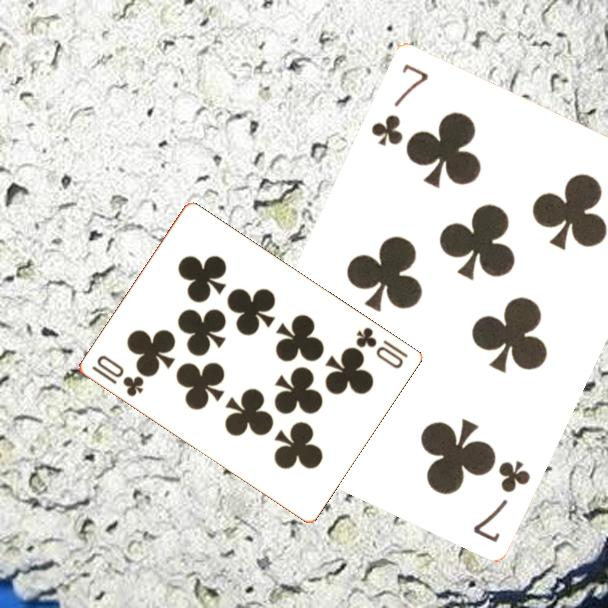c07: (367, 59, 432, 148), (469, 456, 533, 545)
c10: (87, 351, 146, 400), (352, 324, 411, 372)
